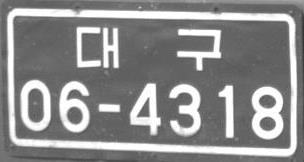0: (19, 78, 52, 131)
1: (212, 84, 243, 138)
3: (168, 82, 202, 137)
4: (129, 82, 161, 135)
6: (58, 79, 91, 133)
8: (250, 86, 284, 139)
대구_D: (74, 24, 223, 70)
